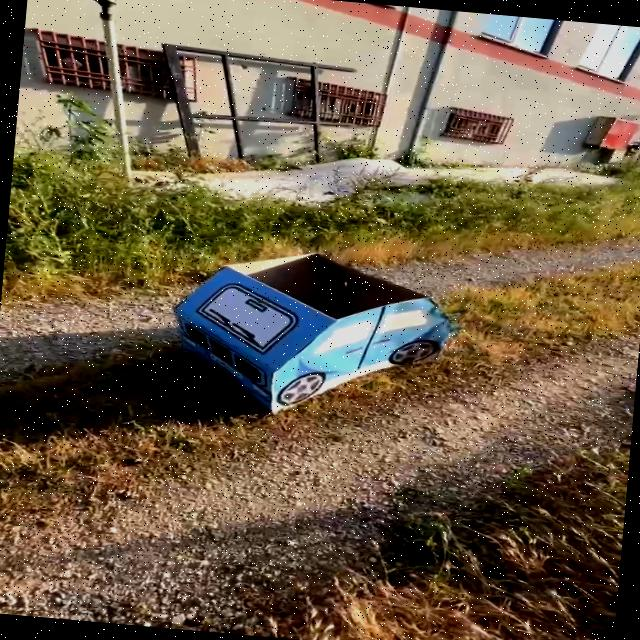blue_car: (109, 213, 472, 451)
